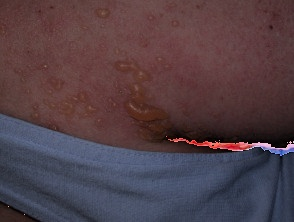SJS-TEN: (0, 0, 294, 176)
